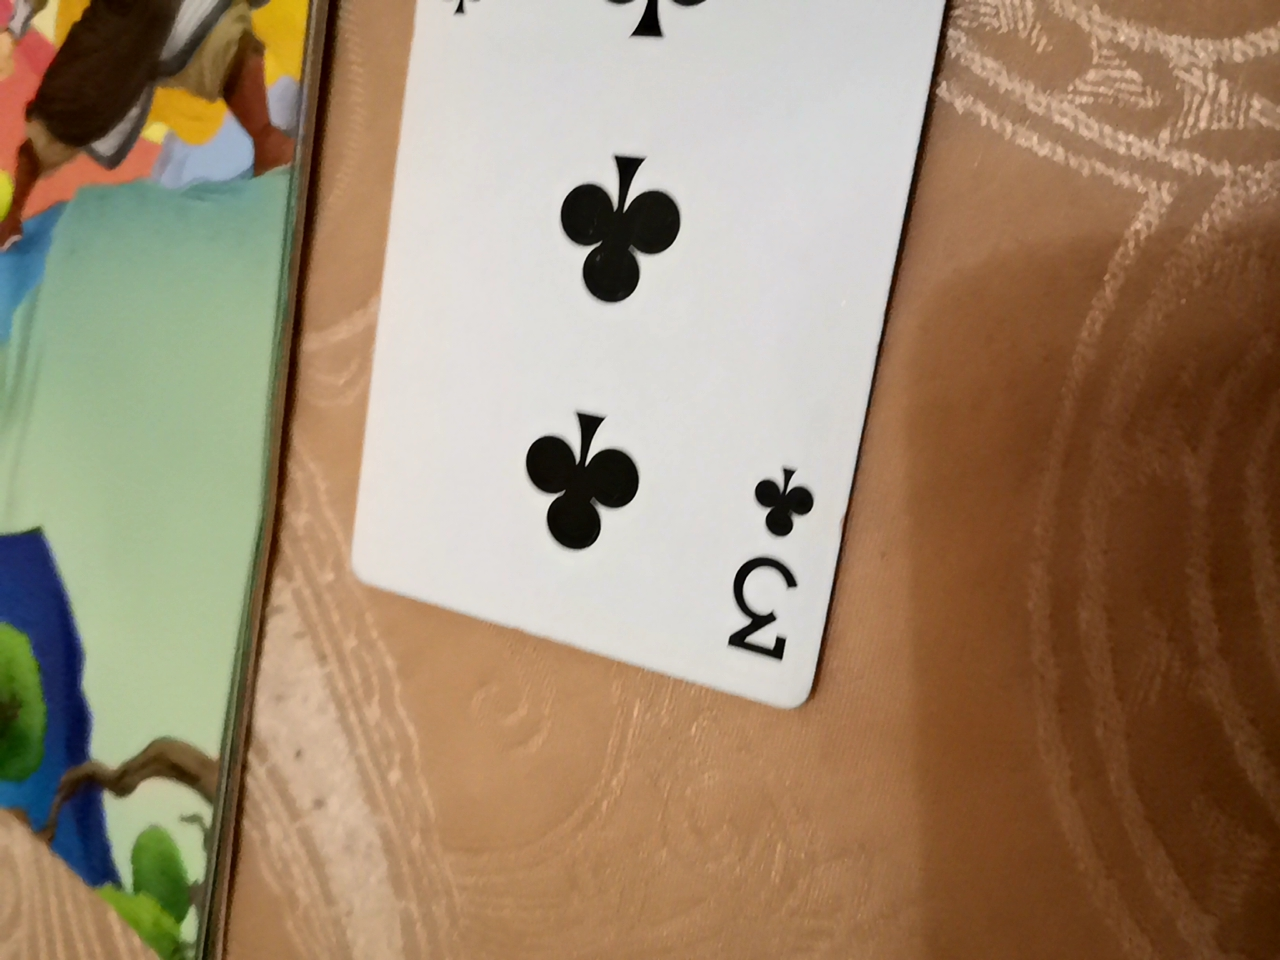mh 3: (351, 8, 971, 708)
